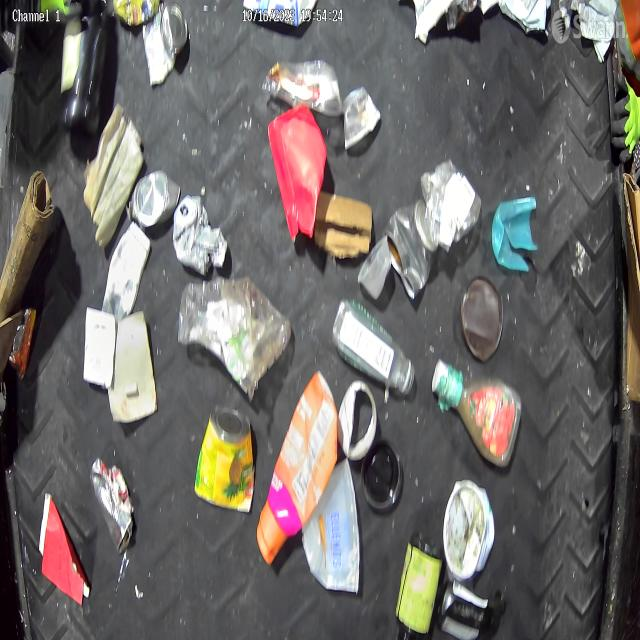can: (196, 411, 258, 521), (438, 473, 496, 582), (386, 205, 432, 312), (89, 448, 134, 557), (140, 2, 194, 88), (127, 163, 182, 238)
non_white_jug: (258, 368, 340, 583)
